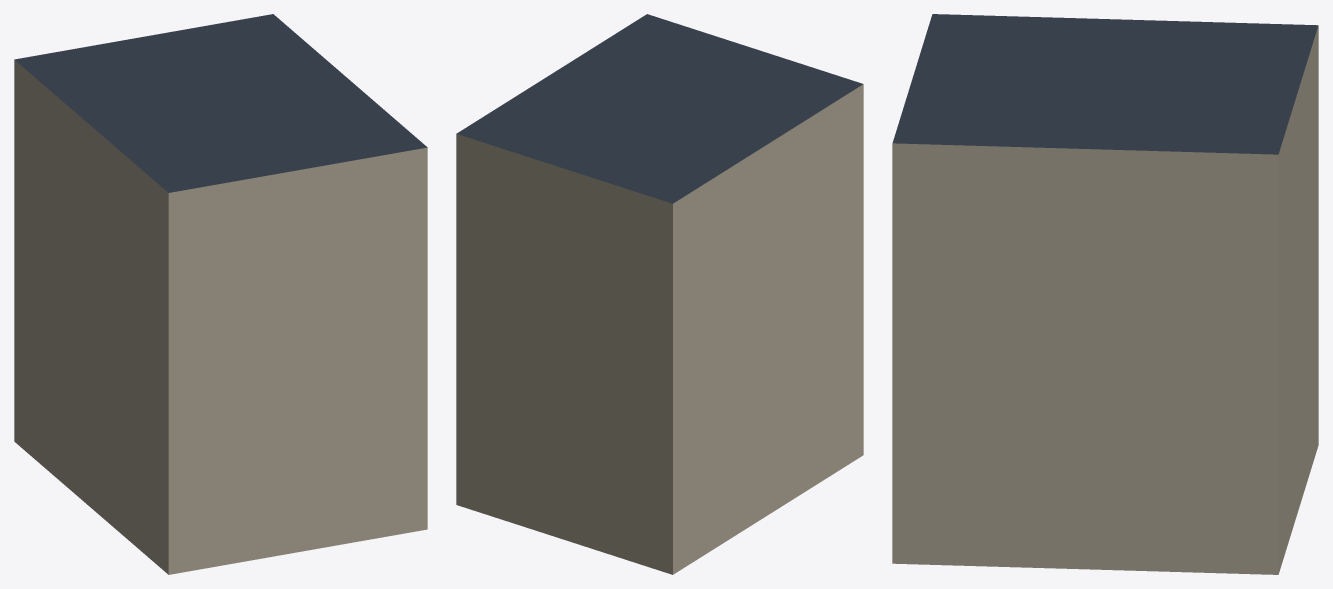
3 renders of one model, left to right at view 1: azimuth 30°, elevation 25°; view 2: azimuth 150°, elevation 25°; view 3: azimuth 270°, elevation 25°, orthographic. The views are drawn at different scales.
Visible parts, largest first — view 1: tuile; view 2: tuile; view 3: tuile.
Part boxes in pixels (x1,y1,x2,y2): tuile: [14, 14, 427, 574]; tuile: [456, 14, 863, 574]; tuile: [892, 14, 1318, 574].
Bounding box in the file's own units: 2.5 × 3.48 × 3.2.
